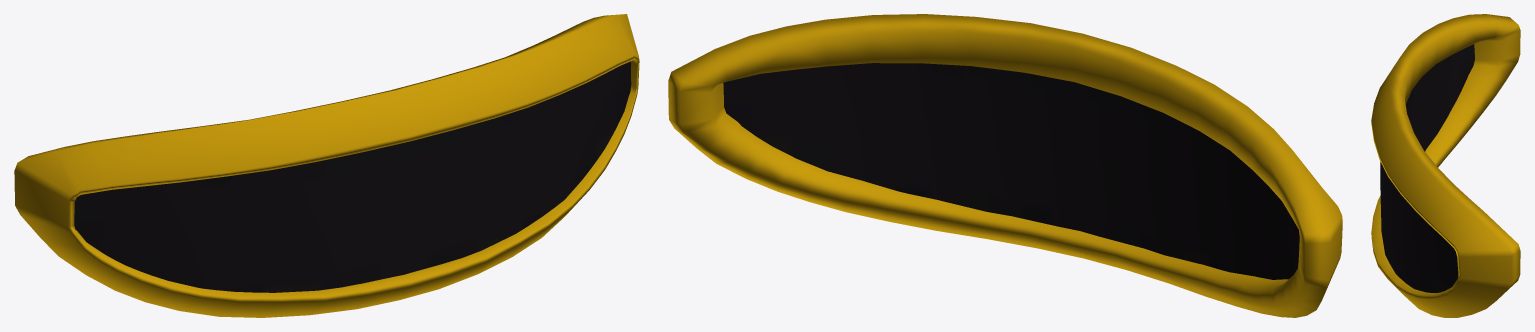
File: AccessoryGlassCyber5.glb
3 views of the same model, side by side, from view 1: azimuth 30°, elevation 25°; view 2: azimuth 150°, elevation 25°; view 3: azimuth 270°, elevation 25° (orthographic). The views are drawn at different scales.
Parts seen in each view (by area): view 1: Accessory__mAccessory; view 2: Accessory__mAccessory; view 3: Accessory__mAccessory.
Boxes of the visible parts, box(x1,y1,x2,y2) form: Accessory__mAccessory: box(14, 14, 639, 317); Accessory__mAccessory: box(668, 14, 1342, 317); Accessory__mAccessory: box(1371, 14, 1520, 317).
Bounding box in the file's own units: 6.63 × 2.16 × 1.79.
Materials: 1 (1 with a texture image).
